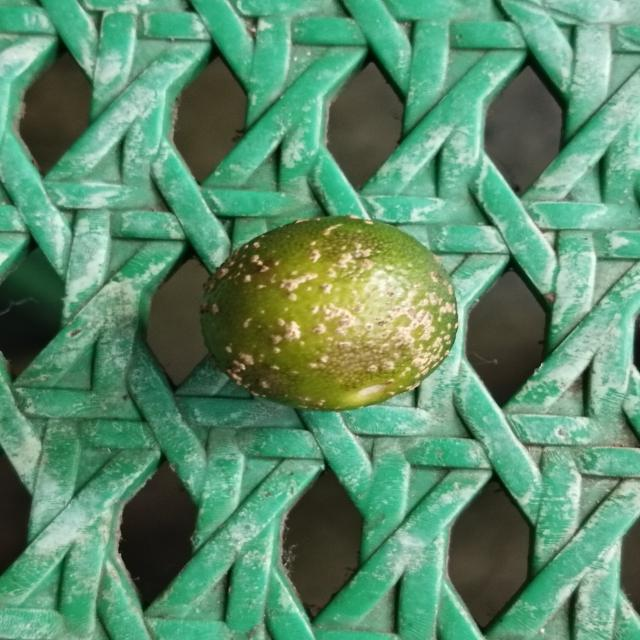scab: (193, 215, 464, 413)
